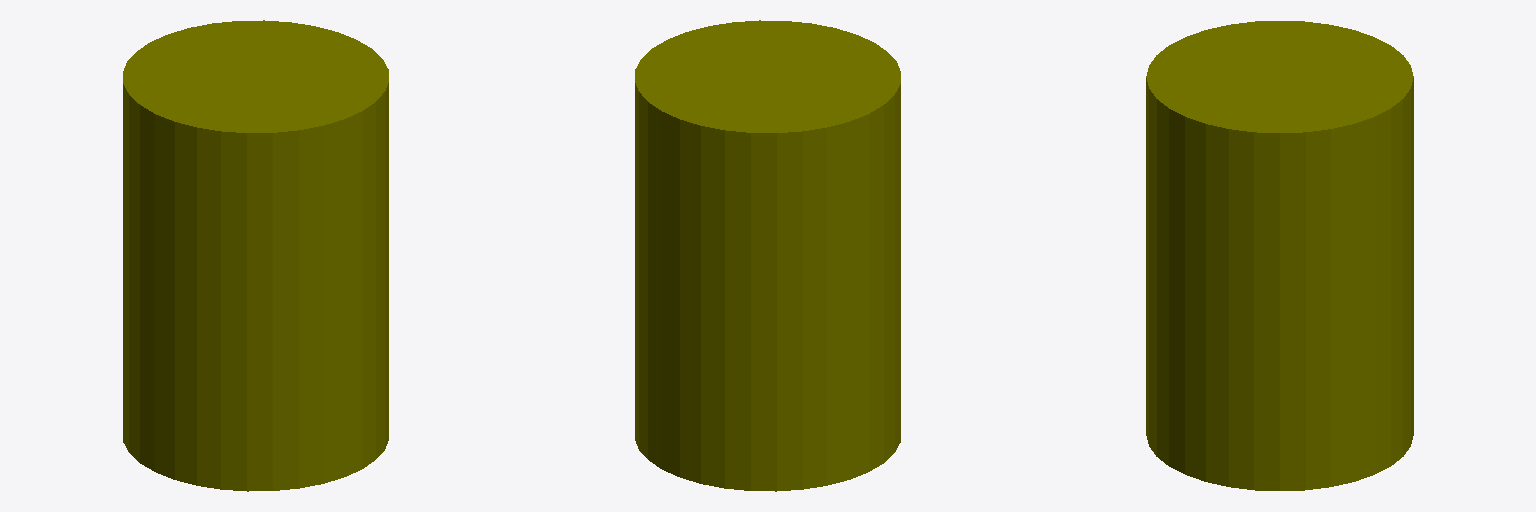
robot.urdf — cube:
<?xml version="1.0"?>
 <robot name="cube">
   <material name="golden">
     <color rgba="0.50196 0.50196 0 1"/>
   </material>
   <link name="base_link">
     <visual>
       <geometry>
         <cylinder length="10.00" radius="3.3829689025878906"/>
       </geometry>
       <material name="golden"/>
     </visual>
     <inertial>
       <mass value="0"/>
       <inertia ixx="1.0" ixy="0.0" ixz="0.0" iyy="1.0" iyz="0.0" izz="1.0"/>
     </inertial>
   </link>
 </robot>

--- Facts derived from the render (not from the file) ---
3 views of the same robot in one strip: view 1: azimuth 30°, elevation 25°; view 2: azimuth 150°, elevation 25°; view 3: azimuth 270°, elevation 25° (orthographic).
Robot: cube — 1 links, 0 joints (none); root link base_link; default pose: all joints at 0.
Visible links, largest first — view 1: base_link; view 2: base_link; view 3: base_link.
Link boxes in pixels (left/top/right/bottom): base_link: left=123, top=20, right=388, bottom=491; base_link: left=635, top=20, right=900, bottom=491; base_link: left=1146, top=21, right=1413, bottom=490.
Bounding box of the posed robot: 6.77 × 6.77 × 10 m (x, y, z).
Geometry: primitives only (box / cylinder / sphere), no mesh files.